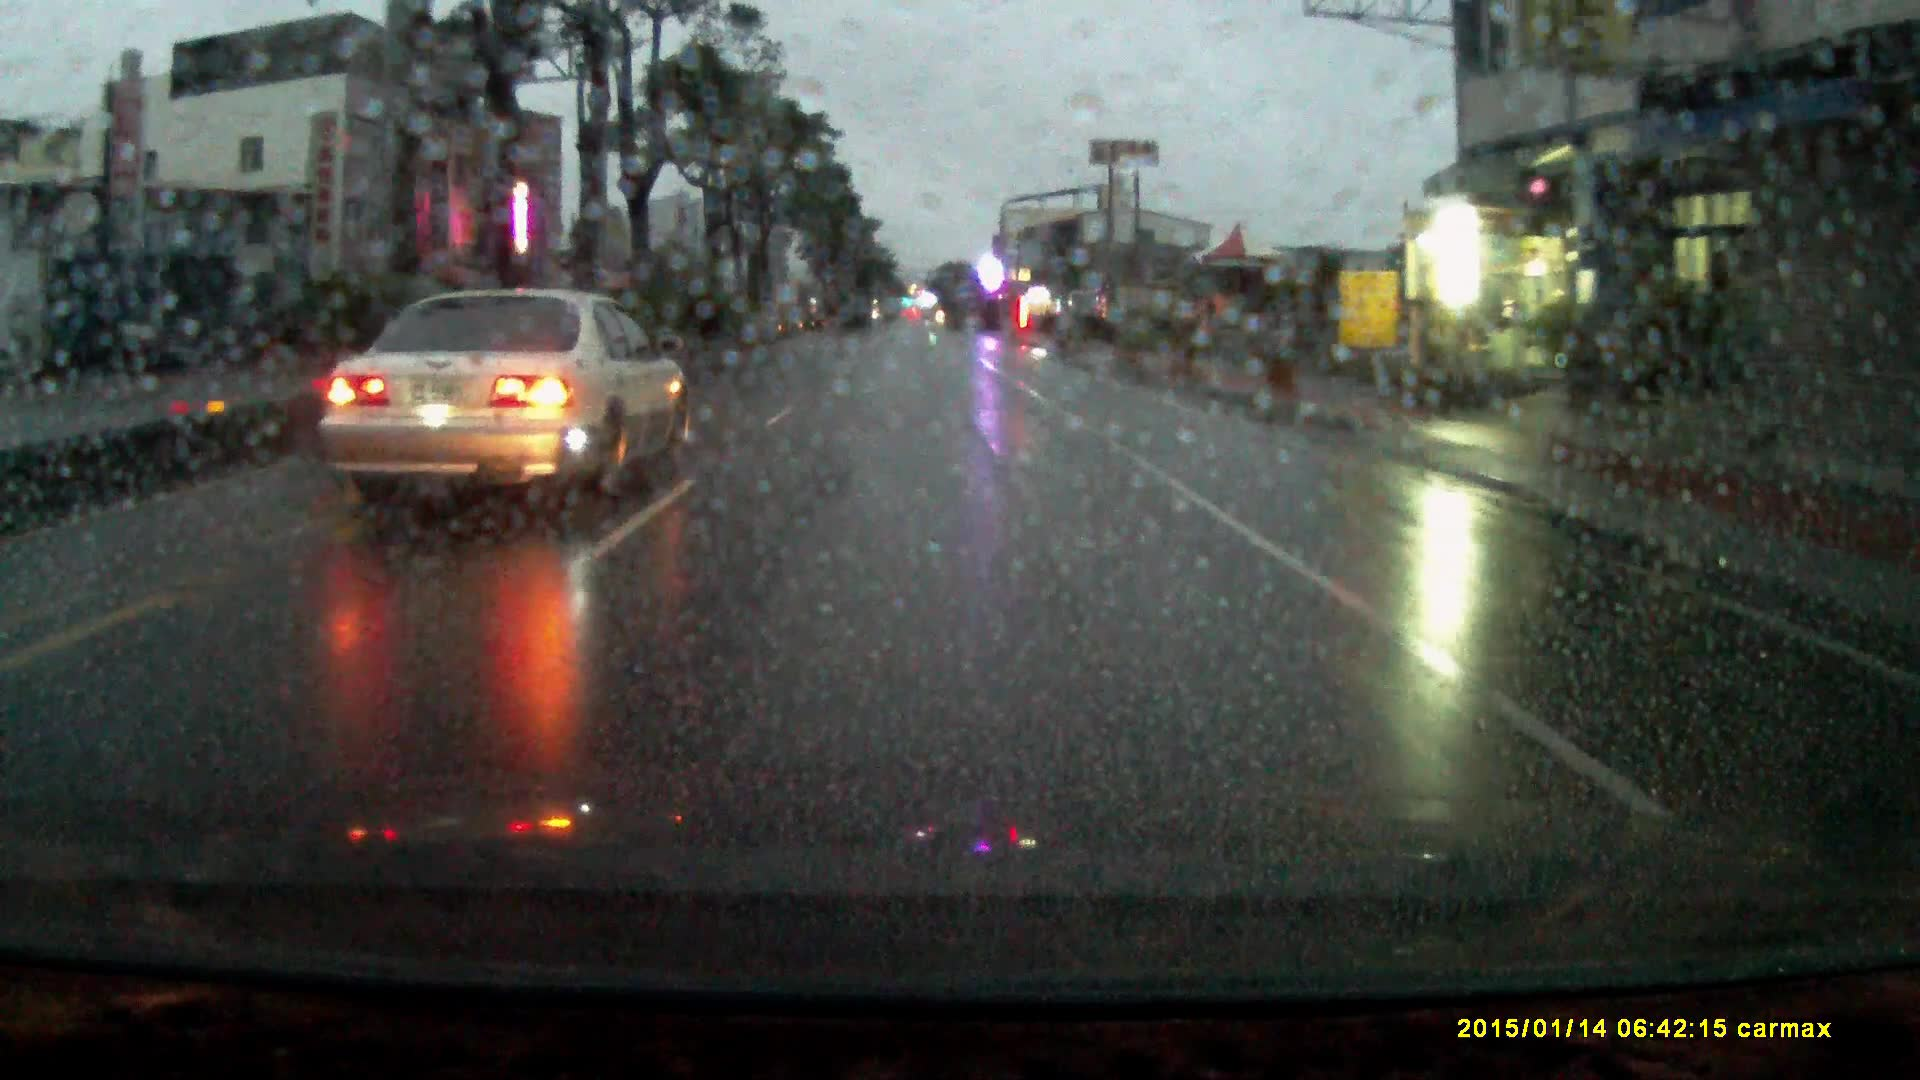vehicle: (310, 289, 692, 514)
